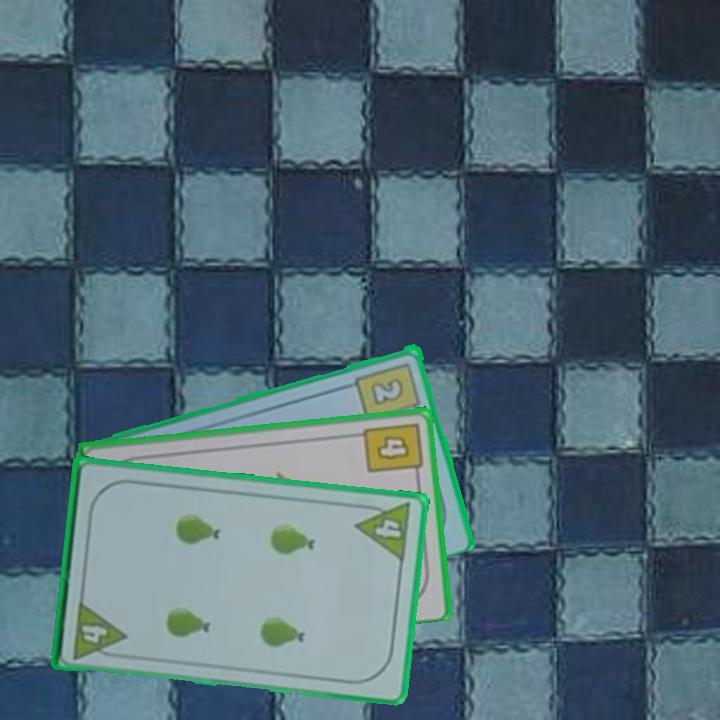2b: (353, 358, 424, 423)
4b: (360, 419, 425, 481)
4p: (352, 499, 414, 565), (70, 597, 129, 662)
